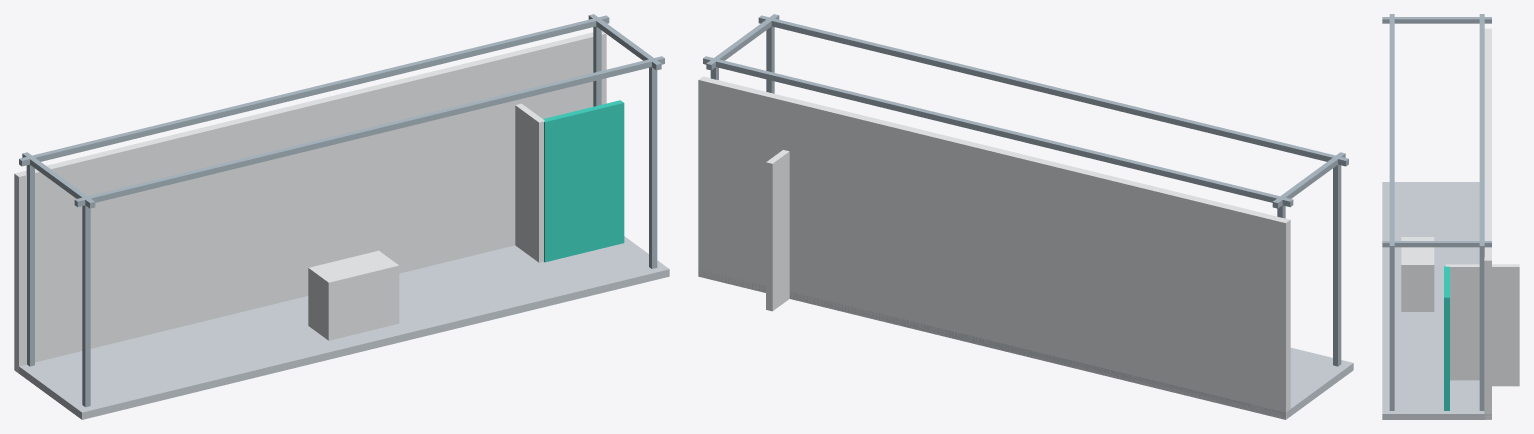
3 renders of one model, left to right at view 1: azimuth 30°, elevation 25°; view 2: azimuth 150°, elevation 25°; view 3: azimuth 270°, elevation 25°, orthographic. The views are drawn at different scales.
Visible parts, largest first — view 1: Exhibition Booth Concept; view 2: Exhibition Booth Concept; view 3: Exhibition Booth Concept.
Boxes of the visible parts, bbox=[...] form: Exhibition Booth Concept: bbox=[14, 14, 669, 419]; Exhibition Booth Concept: bbox=[698, 14, 1353, 419]; Exhibition Booth Concept: bbox=[1382, 14, 1519, 419].
Size of the model in its own units: 10 by 3.49 by 2.5.
